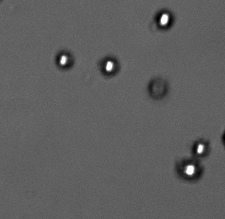Dead Cell: (148, 79, 168, 97)
Living Cell: (176, 158, 203, 181), (101, 56, 118, 76), (155, 10, 173, 28), (55, 50, 72, 69), (192, 138, 208, 157)
